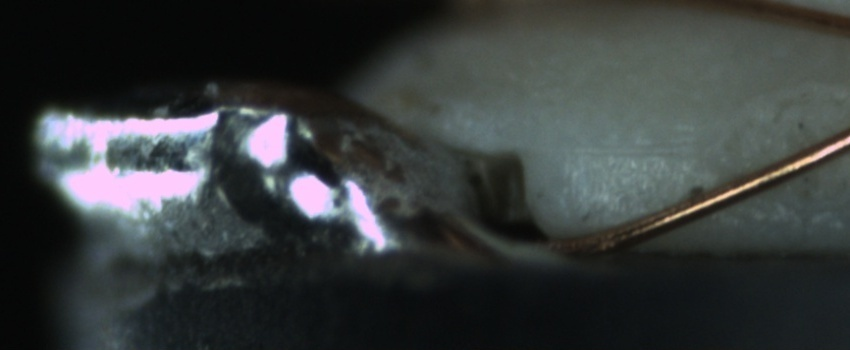DL: (566, 119, 703, 181)
